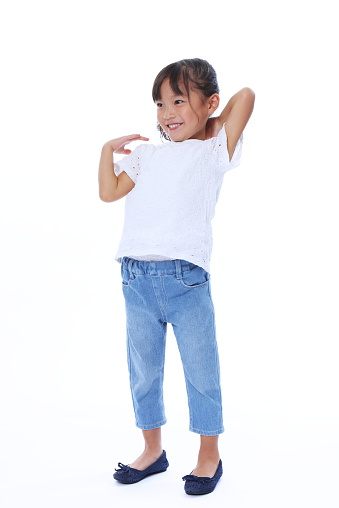em pe: (70, 56, 260, 491)
